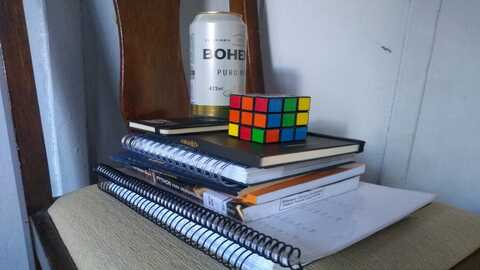bohemia: (190, 11, 254, 96)
